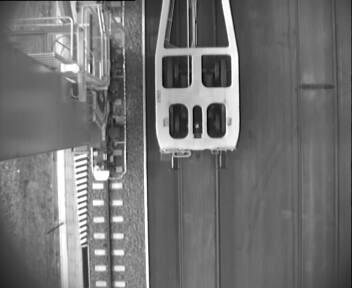wagon_scan: (164, 99, 231, 141)
